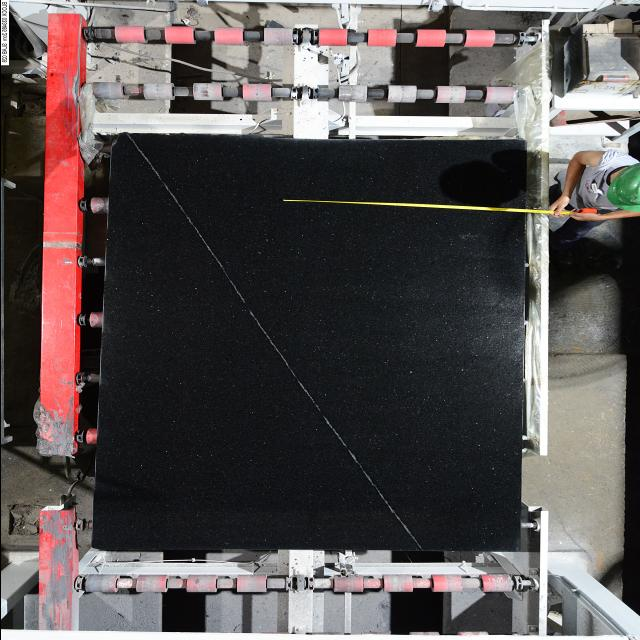chapa: (92, 134, 525, 551)
